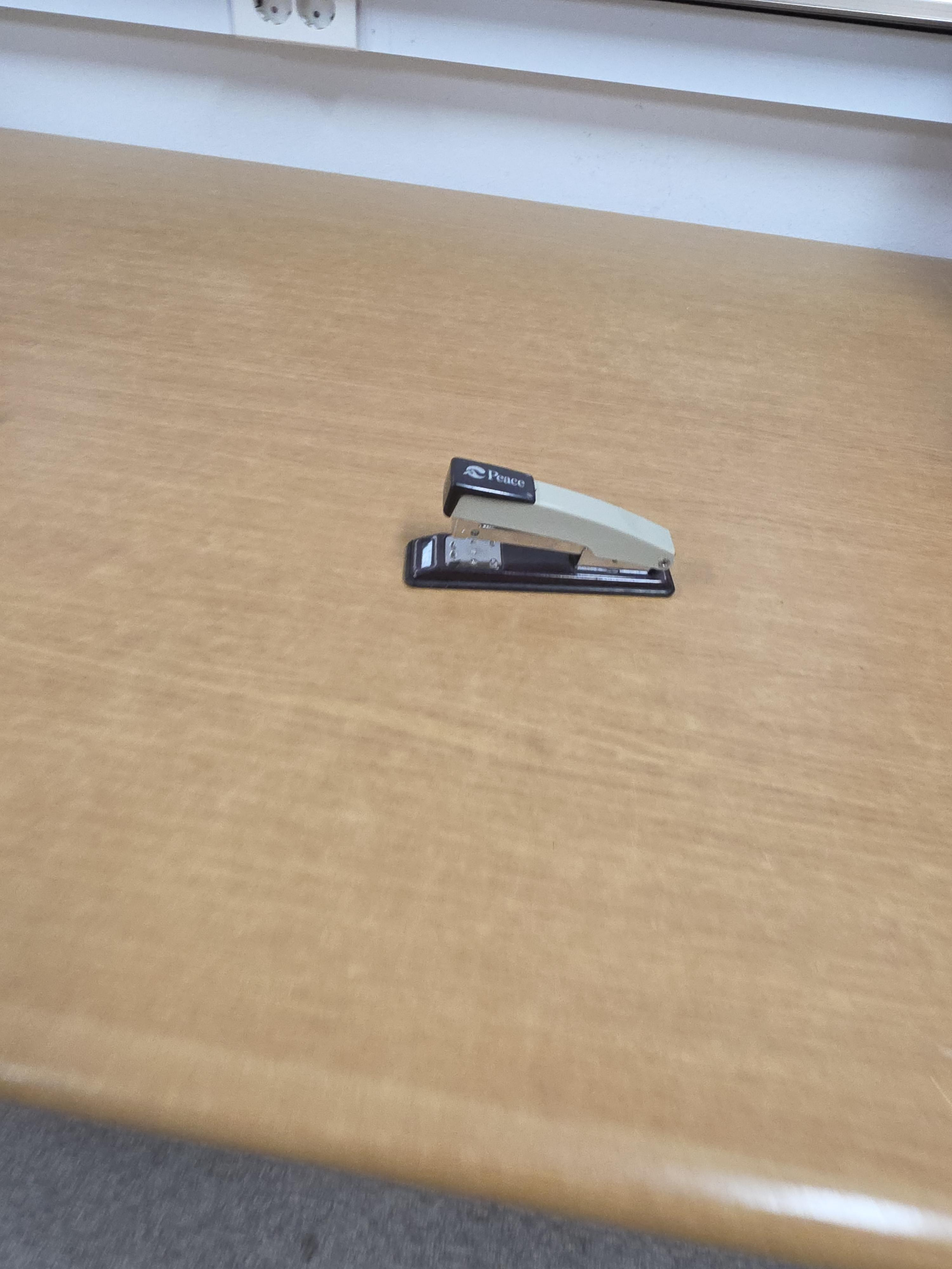stapler: (404, 456, 676, 598)
